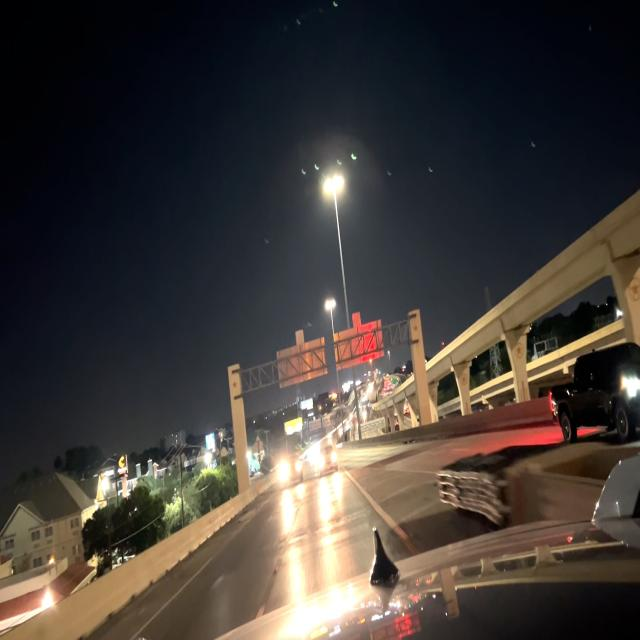back-of-sign: (276, 329, 327, 393), (335, 313, 385, 373)
